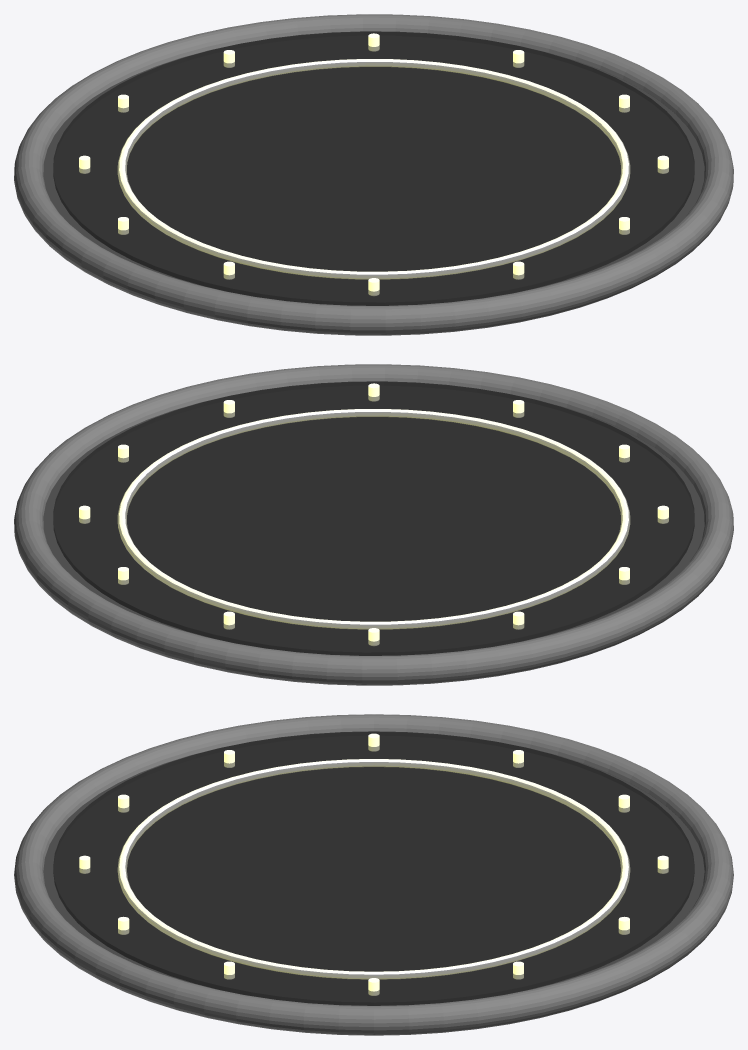
The model's file is who-we-are-platform.glb.
3 renders of one model, top to bottom at view 1: azimuth 30°, elevation 25°; view 2: azimuth 150°, elevation 25°; view 3: azimuth 270°, elevation 25°, orthographic.
Parts seen in each view (by area): view 1: GlassTop, PlatformDisc, PlatformRim, InnerRing; view 2: GlassTop, PlatformDisc, PlatformRim, InnerRing; view 3: GlassTop, PlatformDisc, PlatformRim, InnerRing.
Boxes of the visible parts, bbox=[...] form: GlassTop: bbox=[53, 31, 694, 305]; PlatformDisc: bbox=[43, 32, 704, 305]; PlatformRim: bbox=[14, 14, 733, 335]; InnerRing: bbox=[117, 59, 630, 279]; GlassTop: bbox=[53, 381, 694, 655]; PlatformDisc: bbox=[43, 382, 704, 655]; PlatformRim: bbox=[14, 364, 733, 685]; InnerRing: bbox=[117, 409, 630, 629]; GlassTop: bbox=[53, 731, 694, 1005]; PlatformDisc: bbox=[43, 732, 704, 1005]; PlatformRim: bbox=[14, 714, 733, 1035]; InnerRing: bbox=[117, 759, 630, 979].
Bounding box in the file's own units: 3.86 × 0.535 × 3.86.
